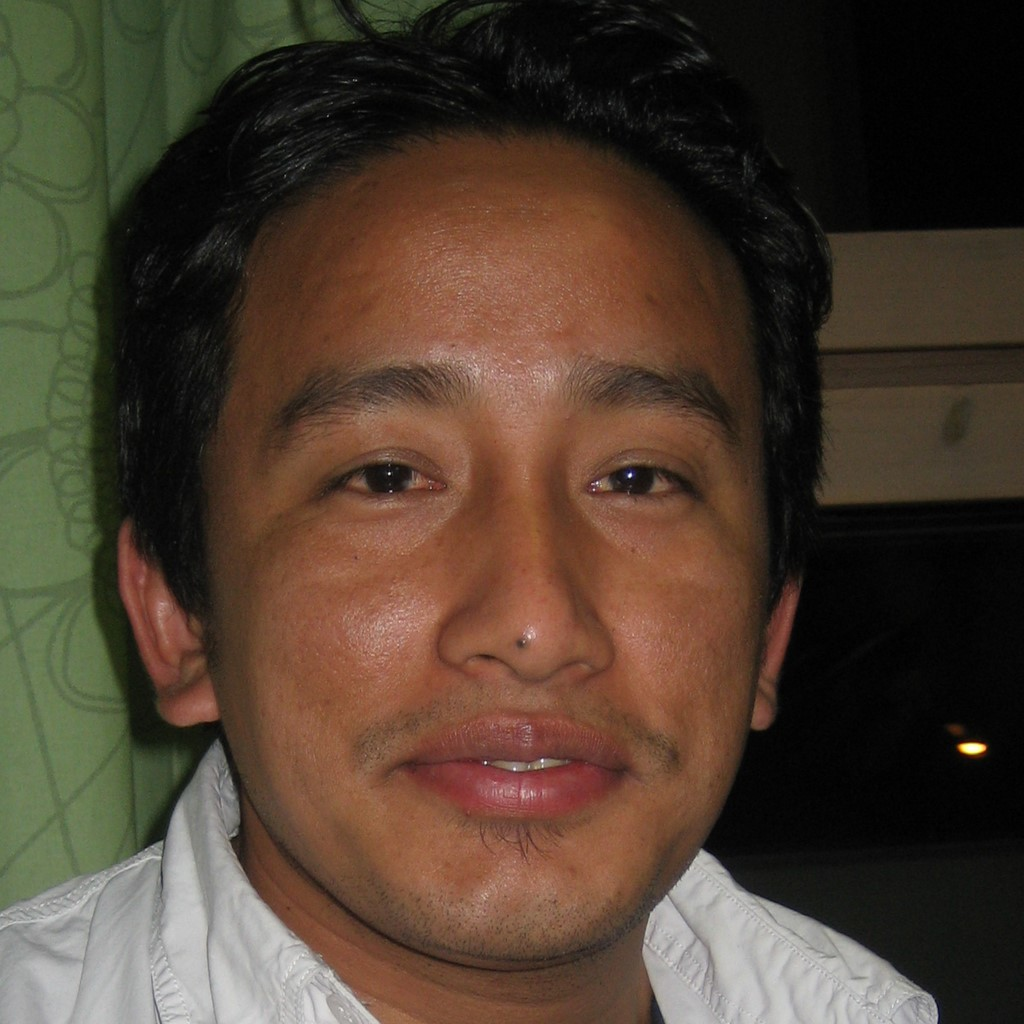sin_mascara: (189, 136, 789, 973)
